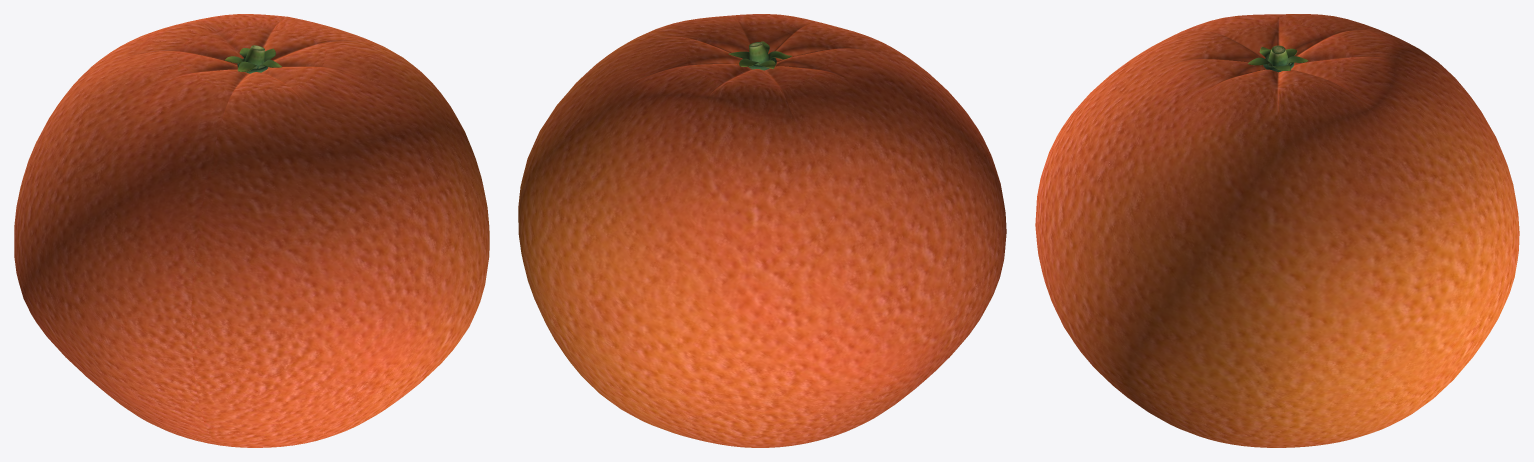
File: orange.obj
3 views of the same model, side by side, from view 1: azimuth 30°, elevation 25°; view 2: azimuth 150°, elevation 25°; view 3: azimuth 270°, elevation 25° (orthographic).
Parts seen in each view (by area): view 1: Fruit; view 2: Fruit; view 3: Fruit.
Part boxes in pixels (x1=…): Fruit: x1=14, y1=14, x2=489, y2=447; Fruit: x1=518, y1=14, x2=1006, y2=447; Fruit: x1=1035, y1=14, x2=1519, y2=447.
Size of the model in its own units: 1.9 by 1.57 by 1.91.
1 material, 1 textured.
